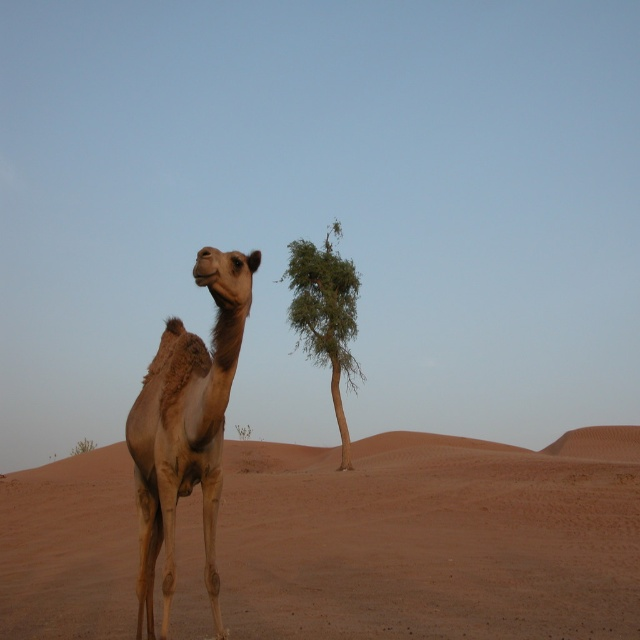Camel: (124, 243, 268, 636)
